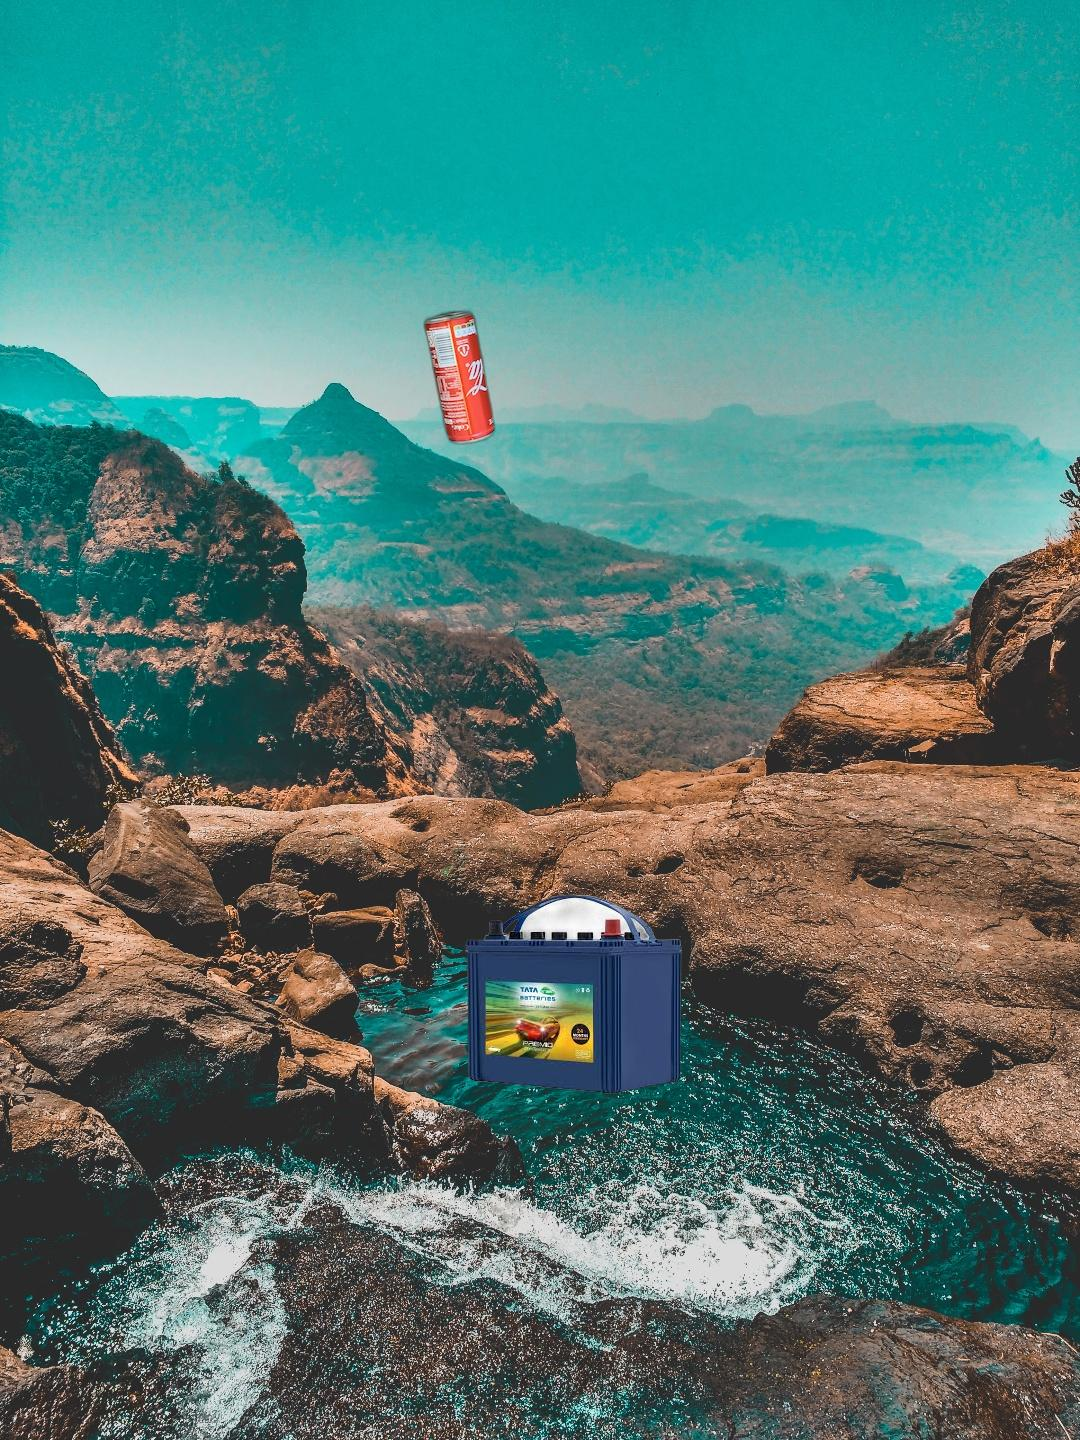battery: (462, 892, 685, 1096)
metal-cans: (419, 305, 500, 449)
